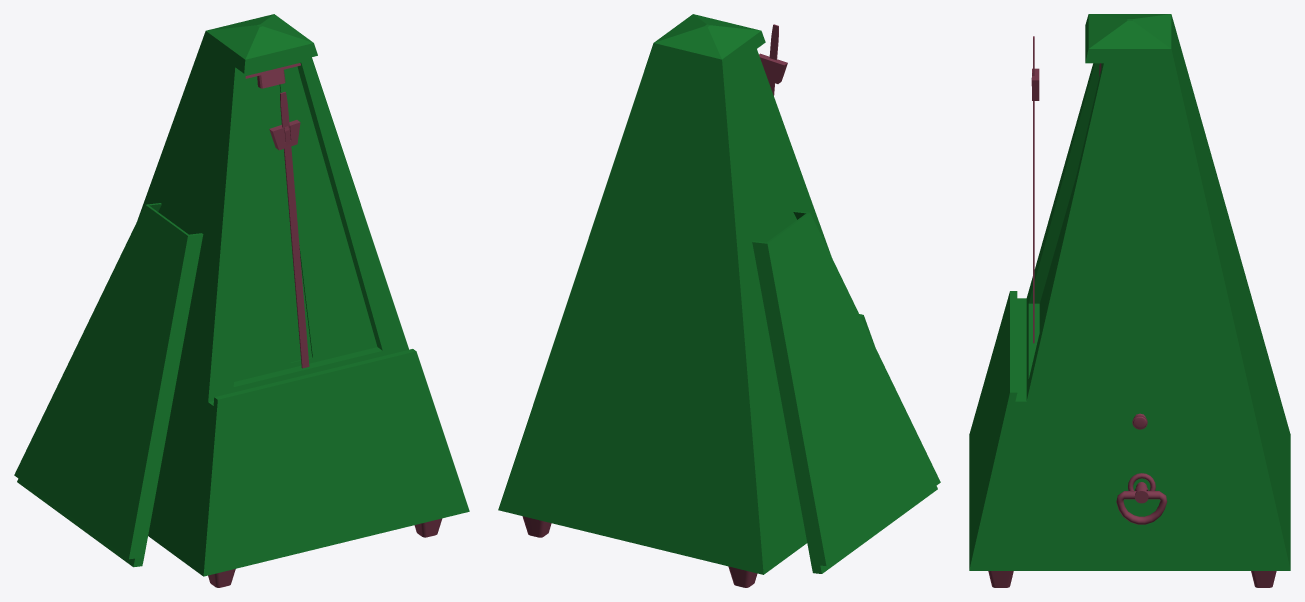
Rendered from metronome_anim_variations.fbx.
The picture shows the model from 3 angles, left to right: view 1: azimuth 30°, elevation 25°; view 2: azimuth 150°, elevation 25°; view 3: azimuth 270°, elevation 25°; orthographic projection. The views are drawn at different scales.
Parts seen in each view (by area): view 1: a_low, b_low, d_low, k_low, e_low; view 2: a_low, b_low, k_low; view 3: a_low, j_low, k_low, d_low.
Part boxes in pixels (x1,y1,x2,y2): a_low: (137,14,469,576); b_low: (14,203,203,567); d_low: (280,92,309,368); k_low: (208,518,442,587); e_low: (269,120,300,150); a_low: (498,14,874,574); b_low: (752,211,940,573); k_low: (522,516,757,587); a_low: (969,14,1290,570); j_low: (1116,491,1167,524); k_low: (988,571,1276,587); d_low: (1033,36,1034,343).
Bounding box in the file's own units: 5.99 × 8.76 × 5.01.
